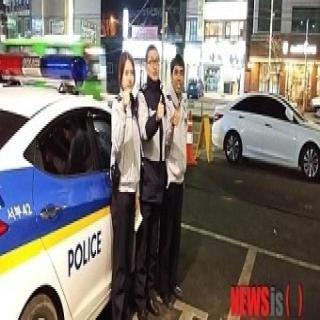Police_car: (0, 53, 160, 320)
